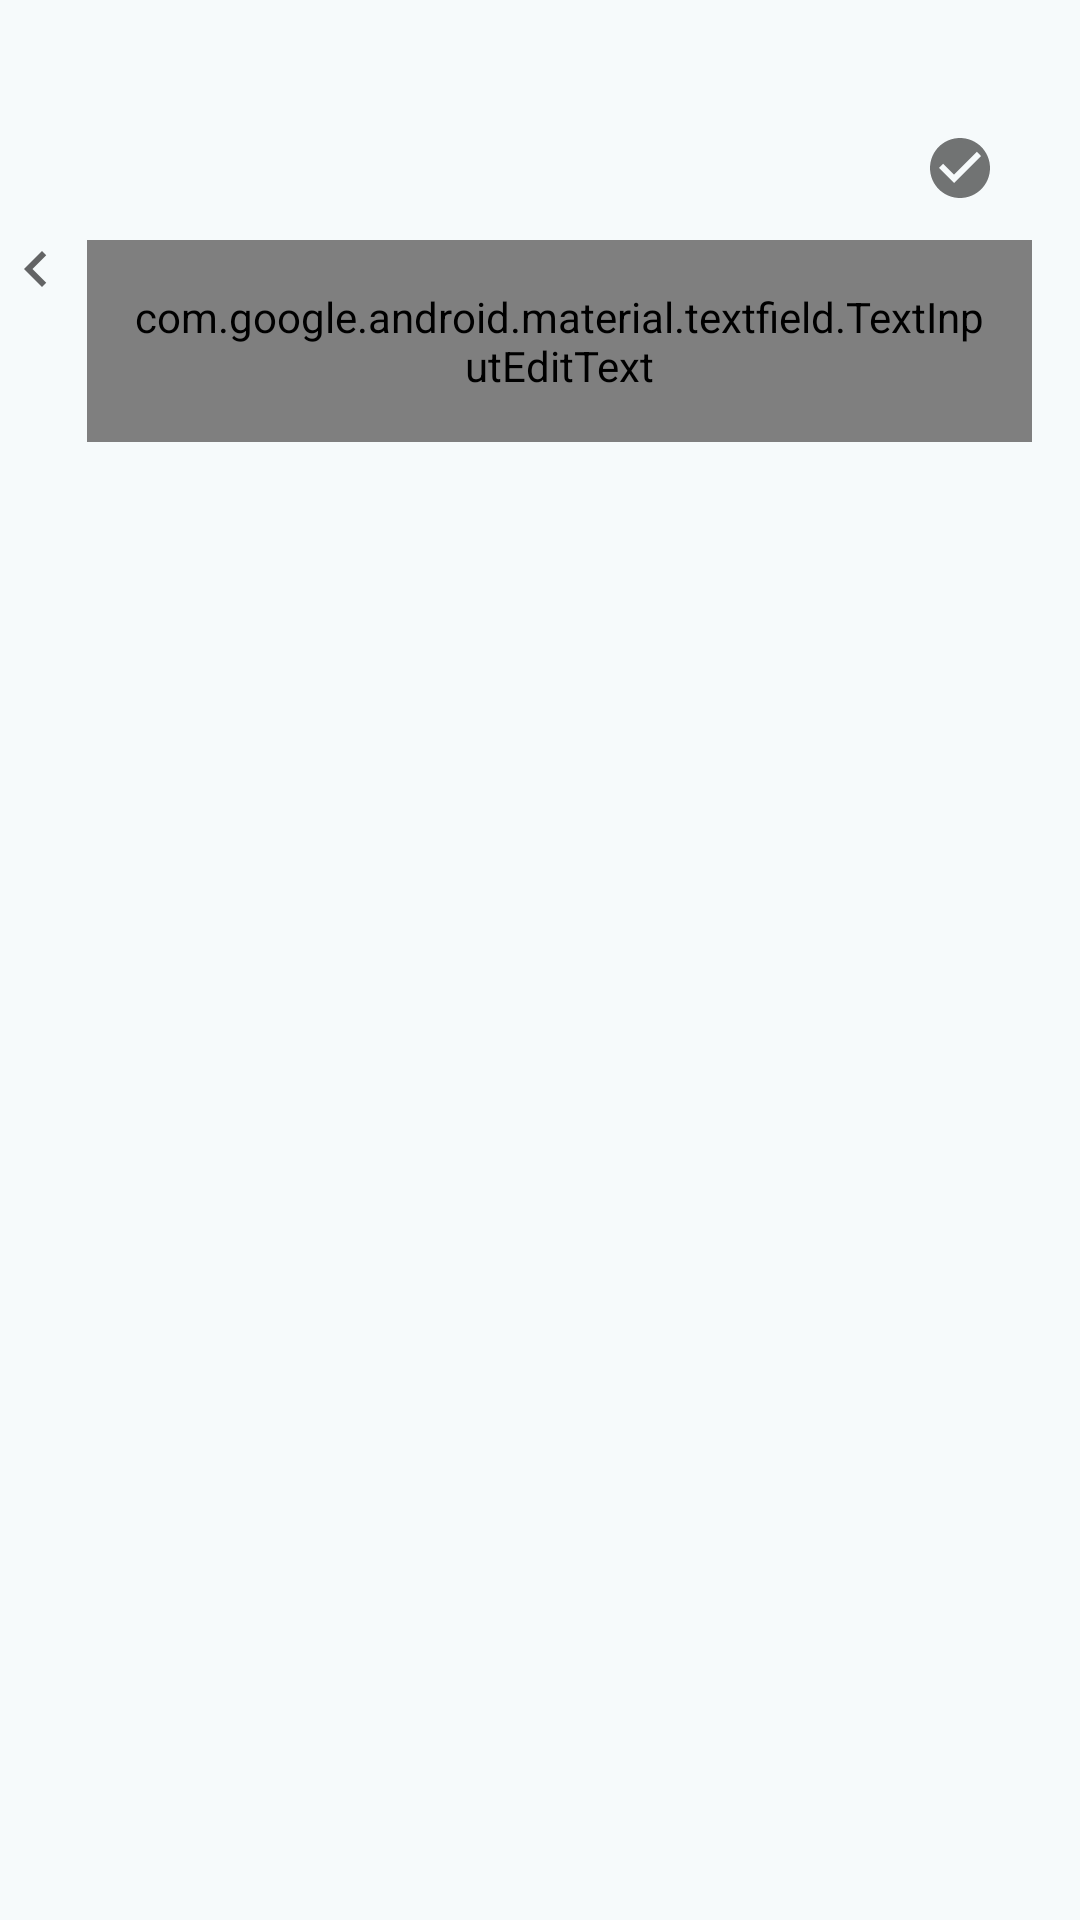

Point at icon controls on the screen. Image size 1080×1920, points as point (x, y).
Back arrow: point (35, 269)
